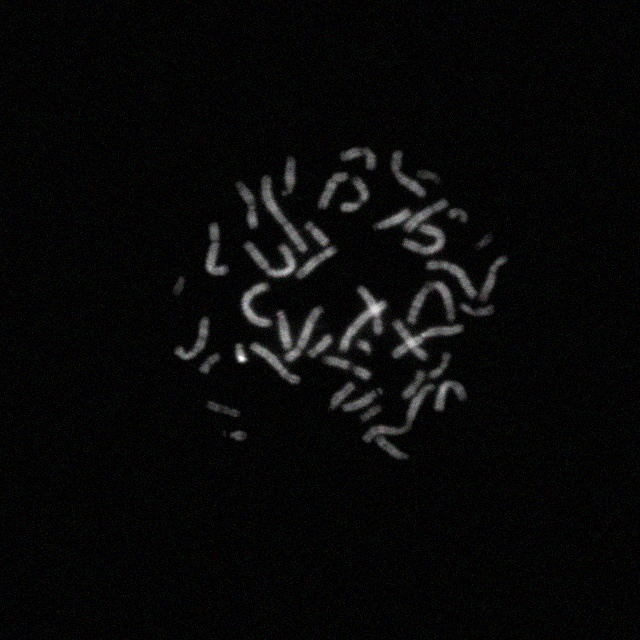chromosome: (361, 382, 433, 443), (262, 175, 308, 253), (340, 300, 388, 352), (392, 324, 463, 358), (409, 280, 455, 324), (285, 306, 321, 362), (426, 259, 476, 299), (252, 344, 300, 384), (246, 240, 296, 278), (392, 150, 428, 198), (392, 319, 428, 361), (176, 316, 210, 360), (404, 199, 448, 231), (240, 282, 272, 326), (402, 224, 444, 256), (479, 255, 508, 301), (297, 247, 337, 280), (205, 223, 229, 275), (356, 286, 382, 334), (324, 354, 372, 380), (318, 172, 348, 210), (235, 182, 259, 228), (340, 175, 370, 211), (434, 381, 466, 412), (338, 145, 376, 171), (343, 389, 385, 411), (376, 436, 412, 460), (278, 156, 298, 197), (376, 206, 412, 228), (328, 382, 354, 412), (459, 300, 496, 318), (207, 399, 241, 418), (402, 369, 424, 398), (308, 334, 332, 360), (276, 311, 292, 349), (306, 220, 328, 247), (428, 353, 452, 377), (416, 168, 442, 184), (360, 406, 382, 424), (200, 353, 220, 372), (220, 428, 246, 442), (232, 343, 248, 365), (172, 274, 186, 298), (356, 338, 372, 358), (449, 208, 467, 224), (477, 232, 493, 248)
